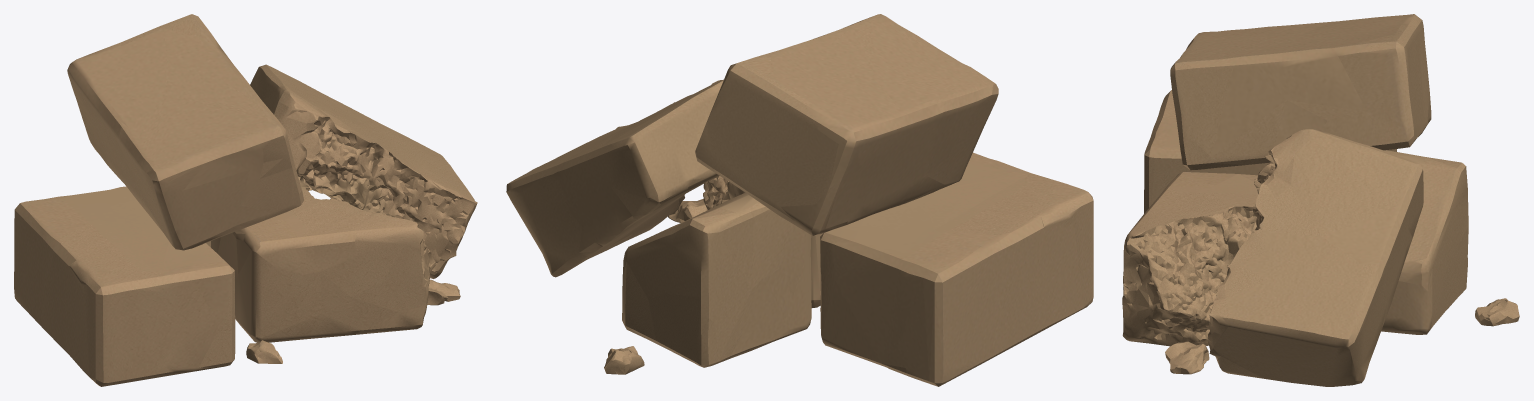
File: rubble.glb
The picture shows the model from 3 angles, left to right: view 1: azimuth 30°, elevation 25°; view 2: azimuth 150°, elevation 25°; view 3: azimuth 270°, elevation 25°; orthographic projection. The views are drawn at different scales.
Bounding box in the file's own units: 1.9 × 1.03 × 1.47.
1 material, 1 textured.
